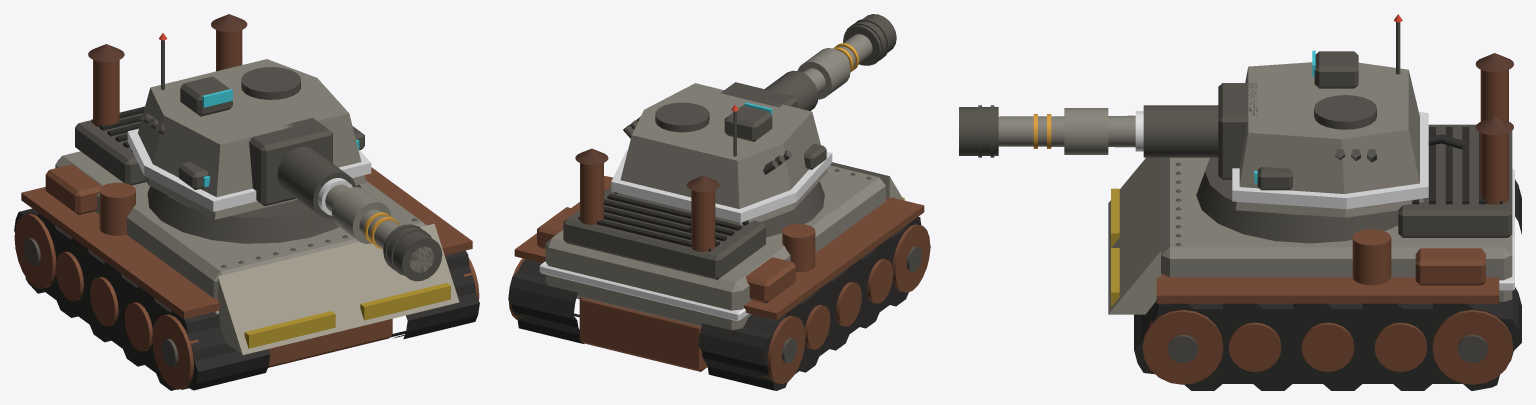
3 views of the same model, side by side, from view 1: azimuth 30°, elevation 25°; view 2: azimuth 150°, elevation 25°; view 3: azimuth 270°, elevation 25° (orthographic). The views are drawn at different scales.
Parts seen in each view (by area): view 1: dweller_robot_sentinel; view 2: dweller_robot_sentinel; view 3: dweller_robot_sentinel.
Part boxes in pixels (left/top/right/bottom): dweller_robot_sentinel: left=14, top=14, right=479, bottom=390; dweller_robot_sentinel: left=508, top=14, right=930, bottom=390; dweller_robot_sentinel: left=959, top=14, right=1521, bottom=390.
Bounding box in the file's own units: 4.08 × 3.5 × 6.41.
